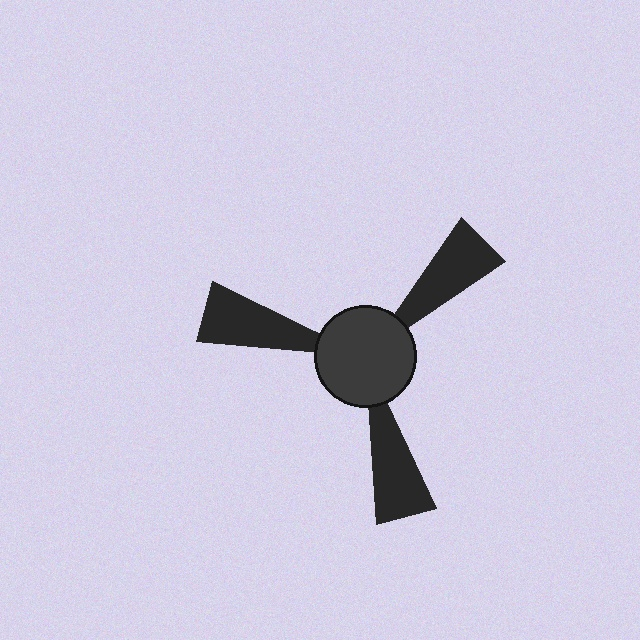fan: (169, 160, 561, 552)
